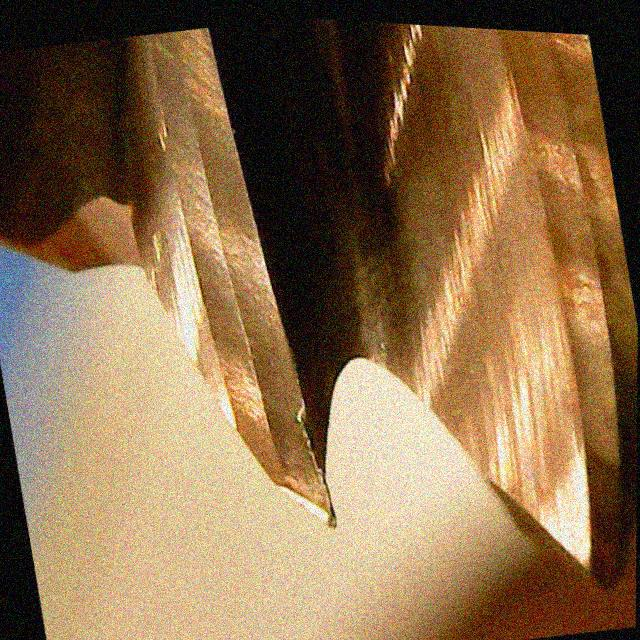Tool-wear-class-1: (173, 225, 353, 547)
